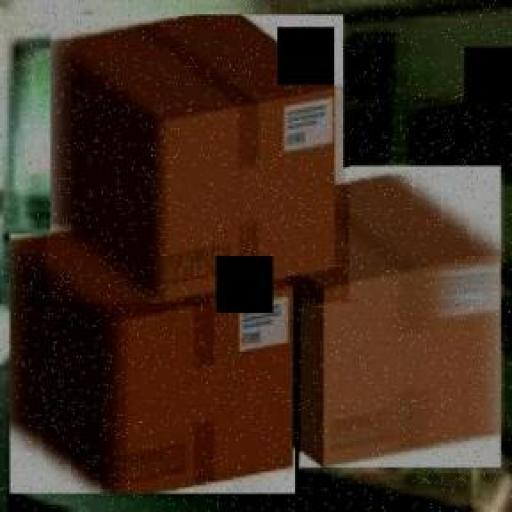box: (46, 10, 350, 303), (6, 230, 300, 499), (298, 164, 504, 474)
